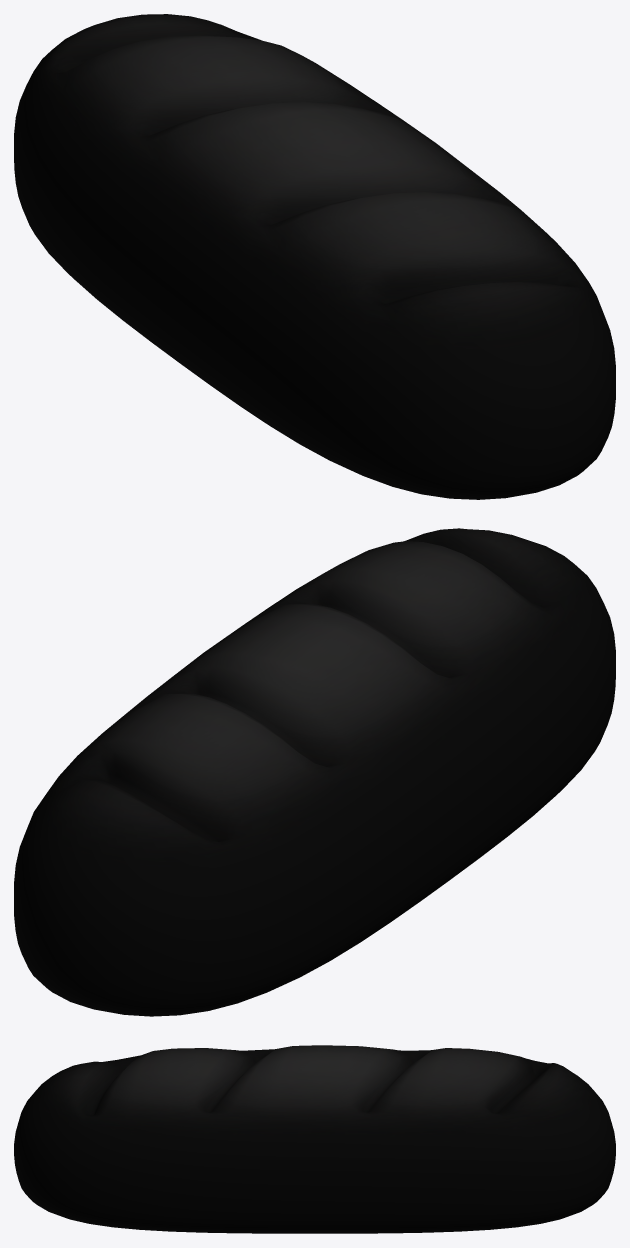
File: BreadPlainBurnt.glb
3 renders of one model, top to bottom at view 1: azimuth 30°, elevation 25°; view 2: azimuth 150°, elevation 25°; view 3: azimuth 270°, elevation 25°, orthographic. The views are drawn at different scales.
Visible parts, largest first — view 1: BreadPlainBurnt; view 2: BreadPlainBurnt; view 3: BreadPlainBurnt.
Part boxes in pixels (box(x1,y1,x2,y2)): BreadPlainBurnt: box(14, 14, 615, 499); BreadPlainBurnt: box(14, 528, 615, 1016); BreadPlainBurnt: box(14, 1045, 615, 1233).
Bounding box in the file's own units: 0.1751 × 0.1204 × 0.4637.
Materials: 1 (1 with a texture image).
